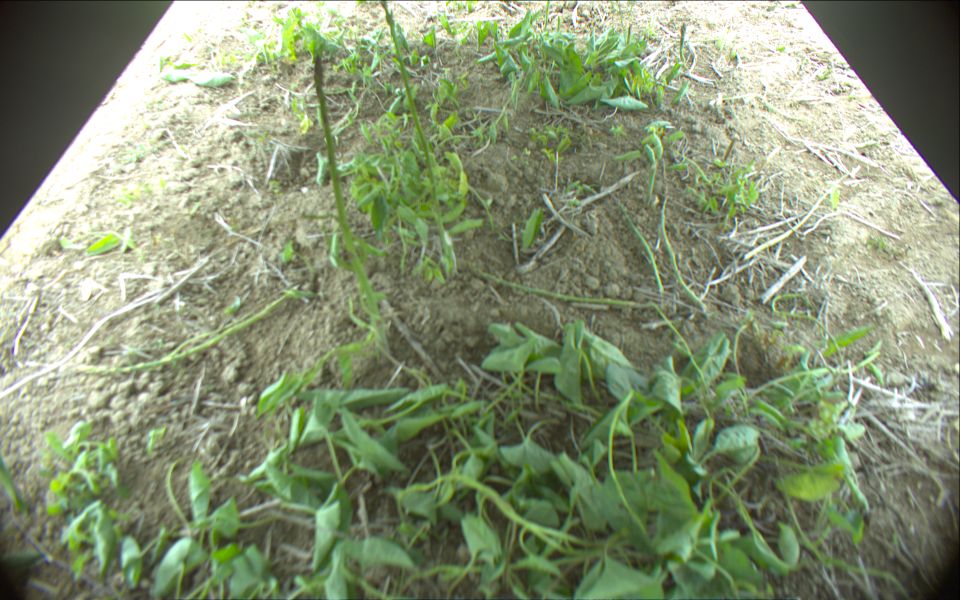aspa: (312, 51, 389, 345), (83, 289, 294, 375), (380, 1, 434, 191), (473, 266, 654, 308), (605, 187, 663, 291), (678, 24, 688, 66), (646, 161, 655, 205), (626, 23, 633, 43)
